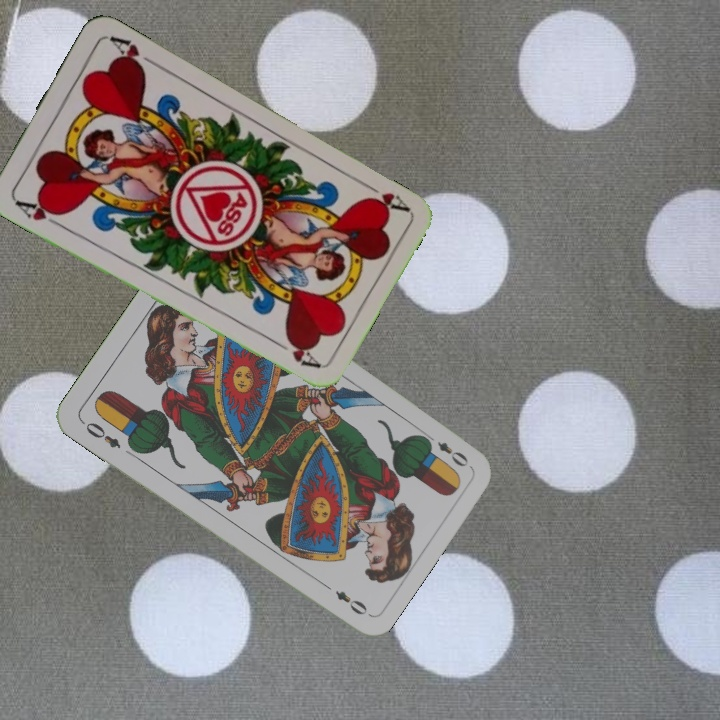EO: (420, 429, 472, 470), (77, 417, 124, 451)
HA: (356, 176, 411, 217), (11, 195, 66, 230)
